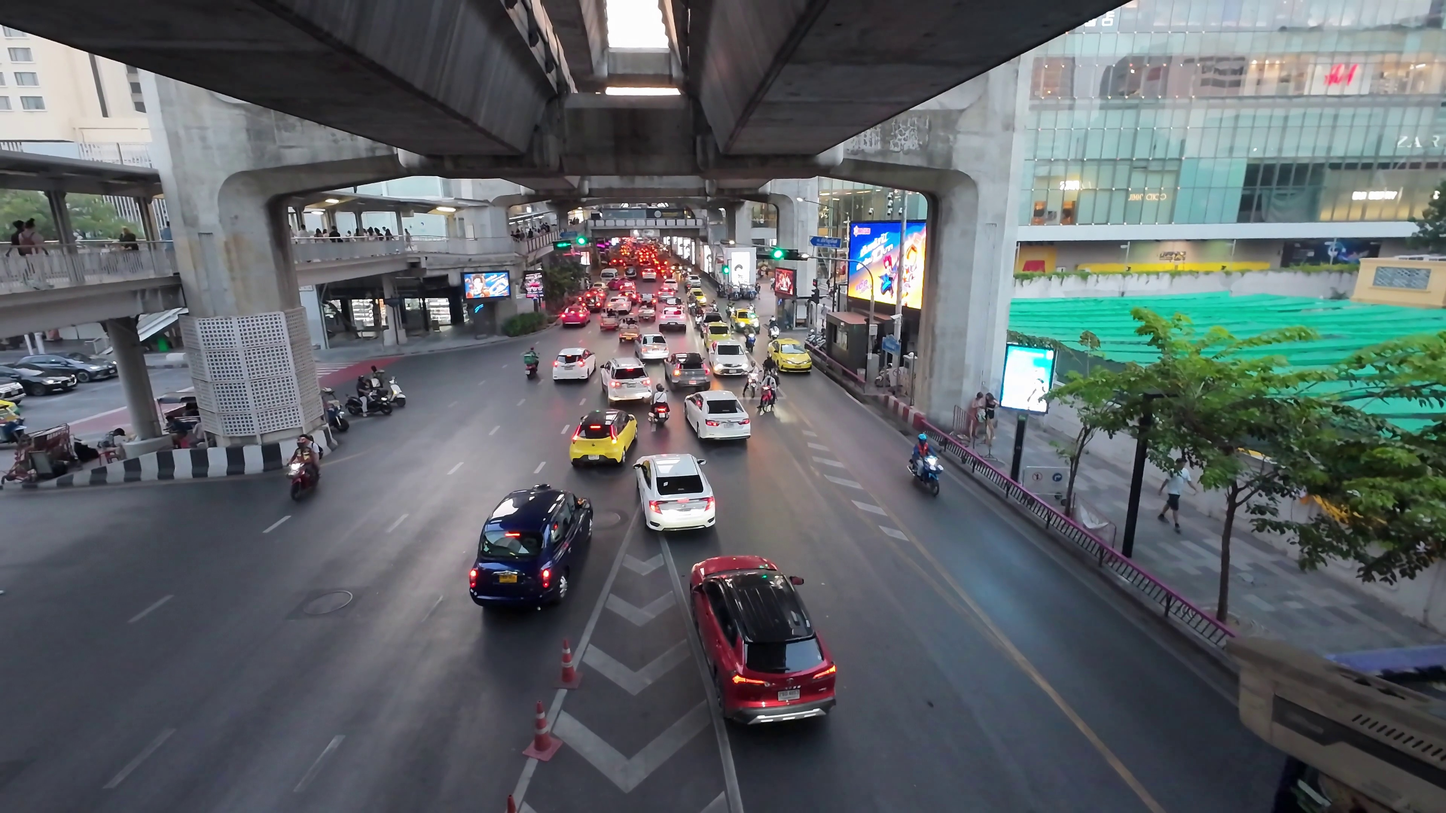license_plate: (724, 658, 801, 715), (500, 559, 563, 600), (659, 502, 698, 528), (584, 446, 621, 466), (702, 420, 735, 437), (20, 380, 60, 392), (618, 391, 646, 406), (616, 385, 641, 397), (294, 481, 311, 497), (561, 371, 582, 383)
motorcycle: (286, 437, 320, 501)
no_seatbelt: (709, 579, 817, 667), (488, 503, 576, 566), (651, 464, 705, 506), (577, 419, 628, 449), (696, 397, 742, 423), (12, 362, 68, 382), (613, 370, 651, 393), (612, 367, 646, 387), (556, 354, 586, 373)
